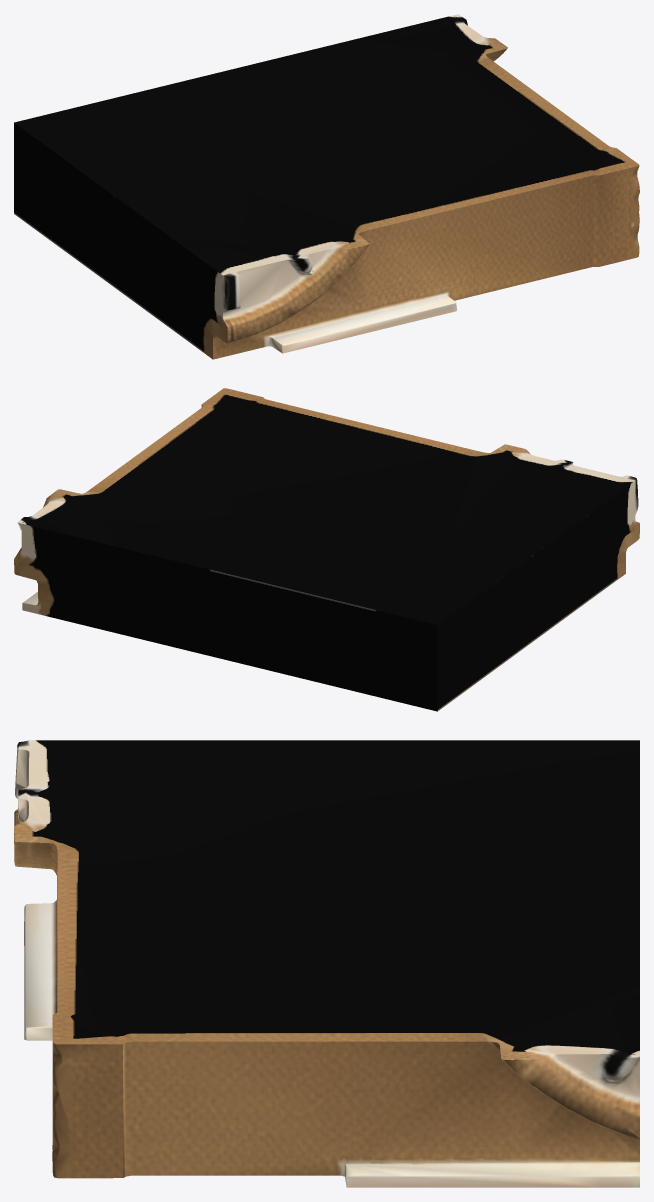
The model's file is 10-roof-front-right.fbx.
3 renders of one model, top to bottom at view 1: azimuth 30°, elevation 25°; view 2: azimuth 150°, elevation 25°; view 3: azimuth 270°, elevation 25°, orthographic. The views are drawn at different scales.
Visible parts, largest first — view 1: roof-front-right; view 2: roof-front-right; view 3: roof-front-right.
Part boxes in pixels (x1,y1,x2,y2): roof-front-right: (14, 14, 639, 359); roof-front-right: (14, 388, 639, 711); roof-front-right: (14, 740, 639, 1187).
Bounding box in the file's own units: 4881 × 952 × 4039.
Materials: 1 (1 with a texture image).
